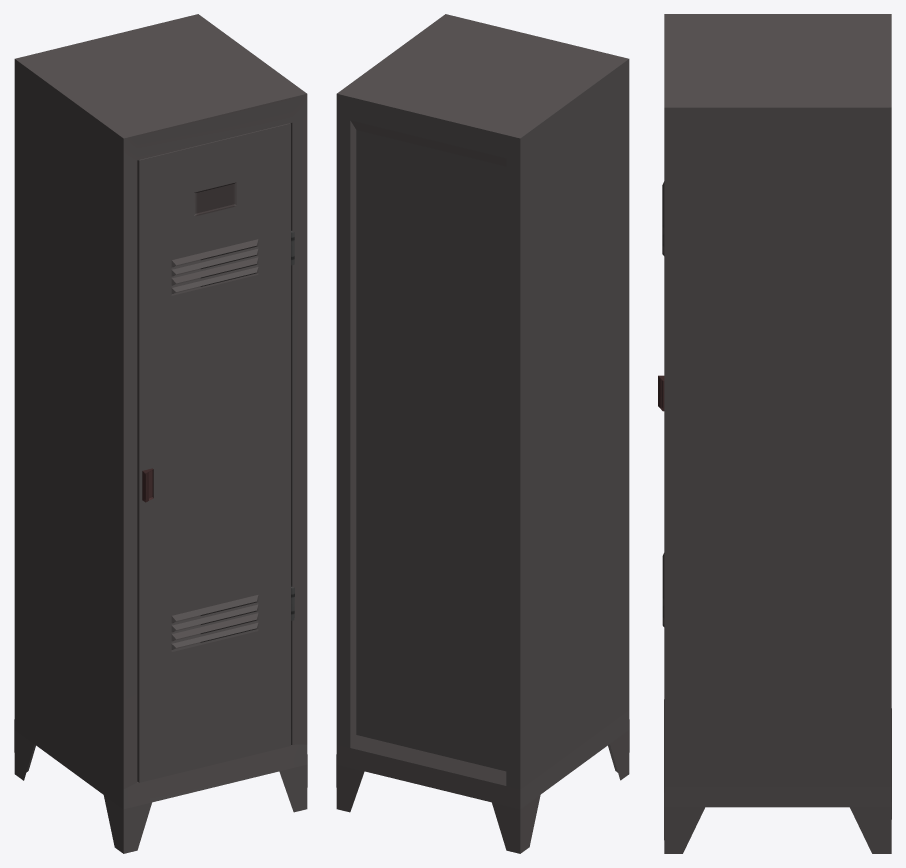
The model's file is LockerOpeningani.fbx.
The picture shows the model from 3 angles, left to right: view 1: azimuth 30°, elevation 25°; view 2: azimuth 150°, elevation 25°; view 3: azimuth 270°, elevation 25°; orthographic projection. The views are drawn at different scales.
Parts seen in each view (by area): view 1: LockerOpeningAni, Locker_scharnieren_locker2; view 2: LockerOpeningAni; view 3: LockerOpeningAni, Locker_scharnieren_locker2.
Part boxes in pixels (x1,y1,x2,y2): LockerOpeningAni: (14, 14, 307, 853); Locker_scharnieren_locker2: (137, 123, 294, 782); LockerOpeningAni: (336, 14, 629, 853); LockerOpeningAni: (664, 14, 891, 853); Locker_scharnieren_locker2: (658, 181, 664, 626).
Size of the model in its own units: 3.02 by 11.19 by 3.18.
